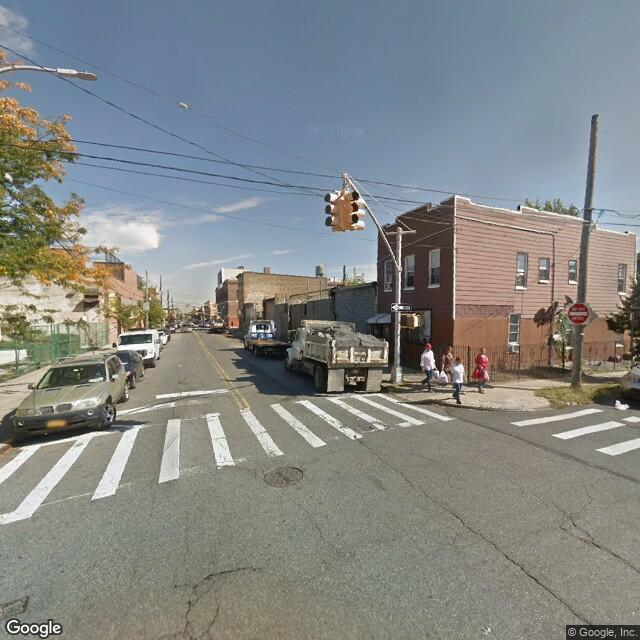litter: (612, 399, 630, 409), (565, 399, 576, 408), (481, 625, 495, 632)
